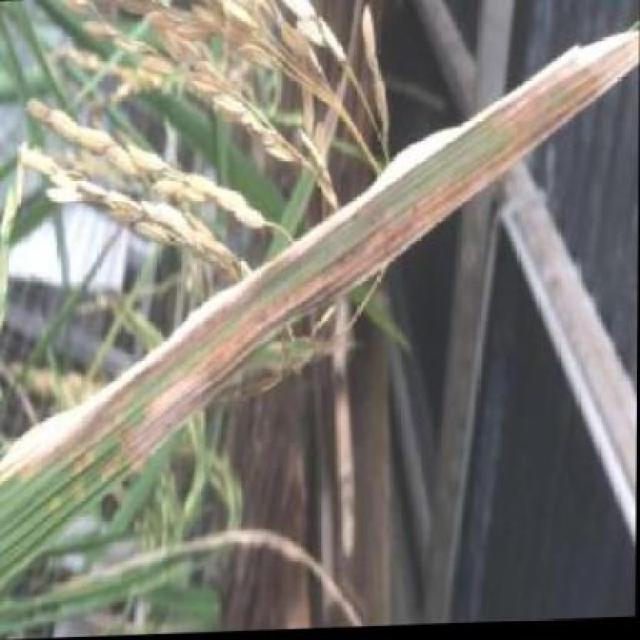Brown_Spot: (263, 0, 639, 349), (1, 275, 262, 540)
